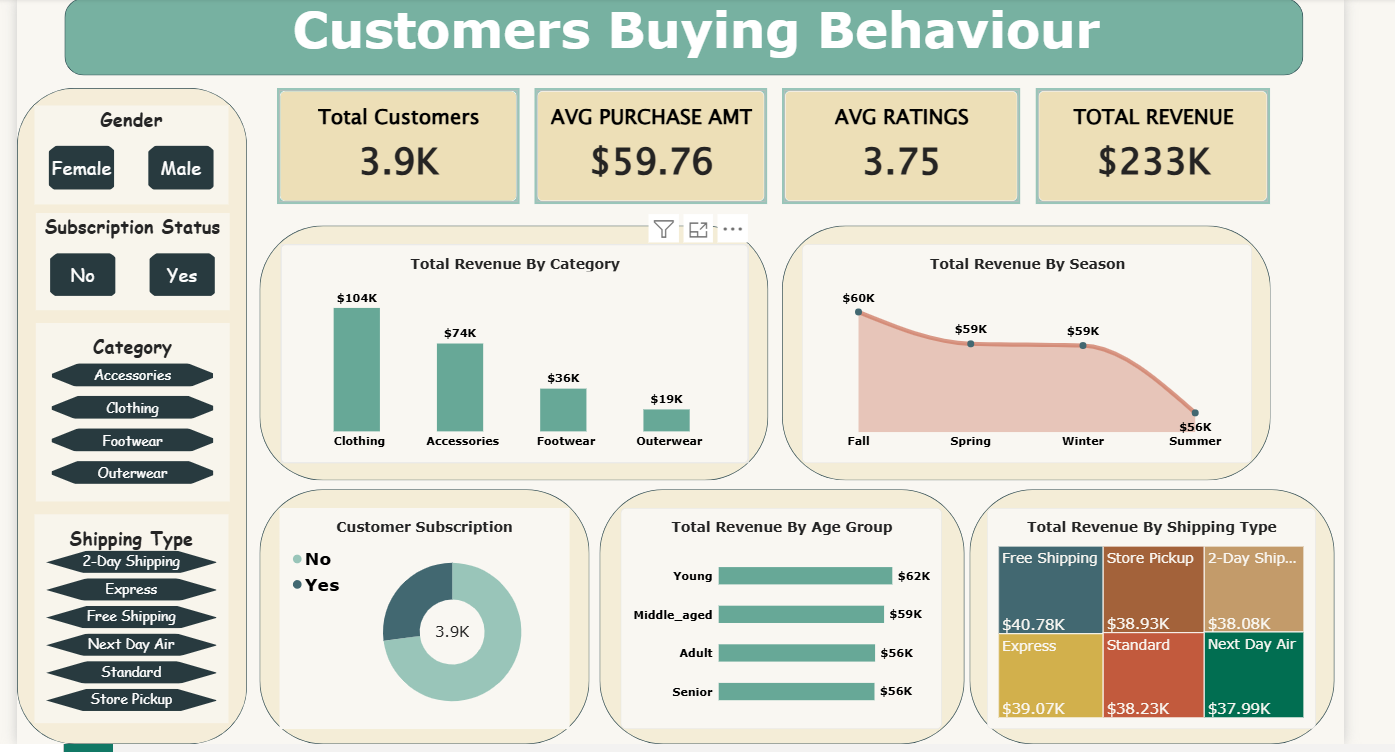

The page's visual inventory and layout, read from the dashboard file:
{"tool":"powerbi","page":{"name":"Page 1","canvas":[1920,1080],"ordinal":0},"visuals":[{"type":"cardVisual","fields":{"Data":["Customers.Total_Customers"]},"box":[376.5,130,352,168.8],"z":0},{"type":"shape","box":[68.8,0,1793.4,112.2],"z":1000},{"type":"textbox","box":[105,0,1757.2,112.2],"z":2000},{"type":"cardVisual","fields":{"Data":["Customers.Avg_Purchase_Amount"]},"box":[749.1,130,337.6,168.8],"z":3000},{"type":"cardVisual","fields":{"Data":["Customers.Avg_Review_Ratings"]},"box":[1107.2,130,345.8,168.8],"z":4000},{"type":"cardVisual","fields":{"Data":["Sum(Customers.purchase_amount)"]},"box":[1474.1,130.3,339.6,168.8],"z":5000},{"type":"shape","box":[0,130.3,333,950.1],"z":6000},{"type":"advancedSlicerVisual","title":"Subscription Status","fields":{"Values":["Customers.subscription_status"]},"box":[27.5,311.8,280.5,141.2],"z":7000},{"type":"listSlicer","title":"Shipping Type","fields":{"Values":["Customers.shipping_type"]},"box":[25.7,746.5,280.6,302.7],"z":8000},{"type":"listSlicer","title":"Category","fields":{"Values":["Customers.category"]},"box":[27.5,471.4,280.6,258.6],"z":9000},{"type":"advancedSlicerVisual","title":"Gender","fields":{"Values":["Customers.gender"]},"box":[25.7,155.9,280.6,143.1],"z":10000},{"type":"shape","box":[351.1,329.4,736.5,369.2],"z":11000},{"type":"columnChart","title":"Total Revenue By Category ","fields":{"Category":["Customers.category"],"Y":["Sum(Customers.purchase_amount)"]},"box":[381.8,356.5,676.8,316.7],"z":12000},{"type":"shape","box":[1107.5,329.4,707.6,369.2],"z":12001},{"type":"lineChart","title":"Total Revenue By Season","fields":{"Category":["Customers.season"],"Y":["Sum(Customers.purchase_amount)"]},"box":[1136.5,356.5,651.5,316.7],"z":12002},{"type":"shape","box":[351.1,711.2,477.8,369.2],"z":12003},{"type":"donutChart","title":"Customer Subscription","fields":{"Category":["Customers.subscription_status"],"Y":["CountNonNull(Customers.subscription_status)"]},"box":[380,738.3,419.8,320.3],"z":12004},{"type":"shape","box":[843.3,711.2,528.4,369.2],"z":12005},{"type":"clusteredBarChart","title":"Total Revenue By Age Group","fields":{"Category":["Customers.age_group"],"Y":["Sum(Customers.purchase_amount)"]},"box":[874.1,738.3,465.1,320.3],"z":12006},{"type":"shape","box":[1379,711.2,528.4,369.2],"z":12007},{"type":"treemap","title":"Total Revenue By Shipping Type","fields":{"Group":["Customers.shipping_type"],"Values":["Sum(Customers.purchase_amount)"]},"box":[1404.3,738.3,475.9,320.3],"z":12008}]}

Visuals, with their boxes on the page's 1920x1080 design canvas (x1, y1, x2, y2). These are canvas units, not pixel positions in the 1395x752 screenshot, which may show the page scaled, cropped or inside an application window:
cardVisual - Customers.Total_Customers: detection(376, 130, 728, 299)
shape: detection(69, 0, 1862, 112)
textbox: detection(105, 0, 1862, 112)
cardVisual - Customers.Avg_Purchase_Amount: detection(749, 130, 1087, 299)
cardVisual - Customers.Avg_Review_Ratings: detection(1107, 130, 1453, 299)
cardVisual - Sum(Customers.purchase_amount): detection(1474, 130, 1814, 299)
shape: detection(0, 130, 333, 1080)
"Subscription Status" advancedSlicerVisual: detection(28, 312, 308, 453)
"Shipping Type" listSlicer: detection(26, 746, 306, 1049)
"Category" listSlicer: detection(28, 471, 308, 730)
"Gender" advancedSlicerVisual: detection(26, 156, 306, 299)
shape: detection(351, 329, 1088, 699)
"Total Revenue By Category " columnChart: detection(382, 356, 1059, 673)
shape: detection(1108, 329, 1815, 699)
"Total Revenue By Season" lineChart: detection(1136, 356, 1788, 673)
shape: detection(351, 711, 829, 1080)
"Customer Subscription" donutChart: detection(380, 738, 800, 1059)
shape: detection(843, 711, 1372, 1080)
"Total Revenue By Age Group" clusteredBarChart: detection(874, 738, 1339, 1059)
shape: detection(1379, 711, 1907, 1080)
"Total Revenue By Shipping Type" treemap: detection(1404, 738, 1880, 1059)
